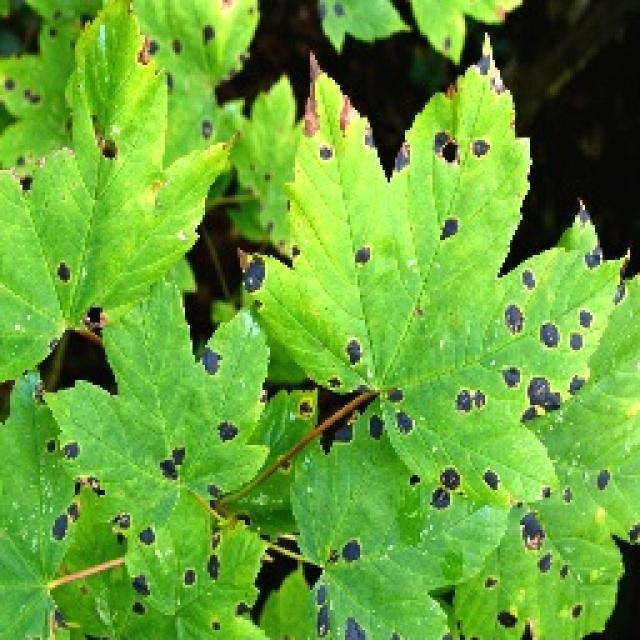Tar_Spot: (111, 34, 574, 628)
